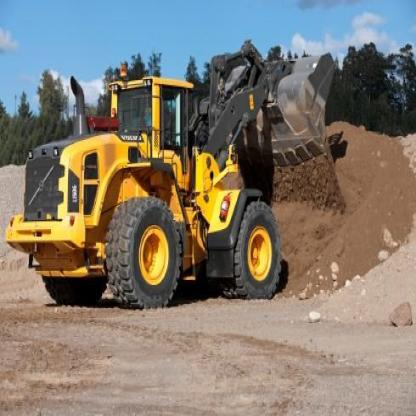bull_dozer/loader/grader: (6, 40, 351, 309)
